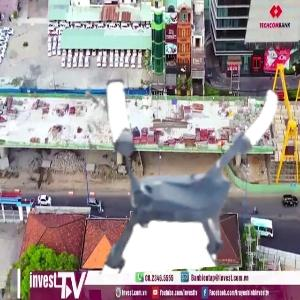drone: (90, 64, 296, 270)
